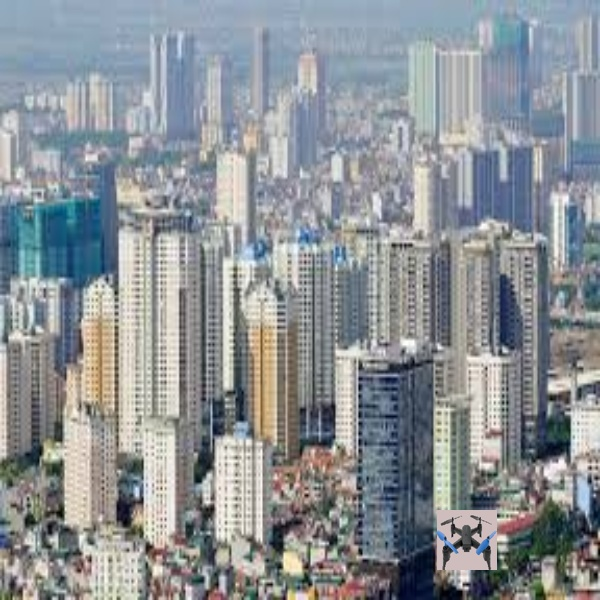drone: (436, 508, 498, 568)
